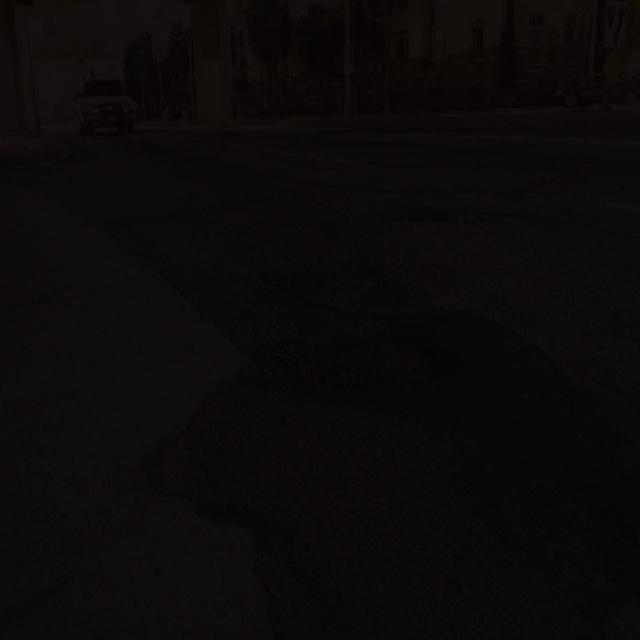Pothole: (225, 328, 457, 413), (297, 251, 408, 328), (364, 186, 464, 240)
